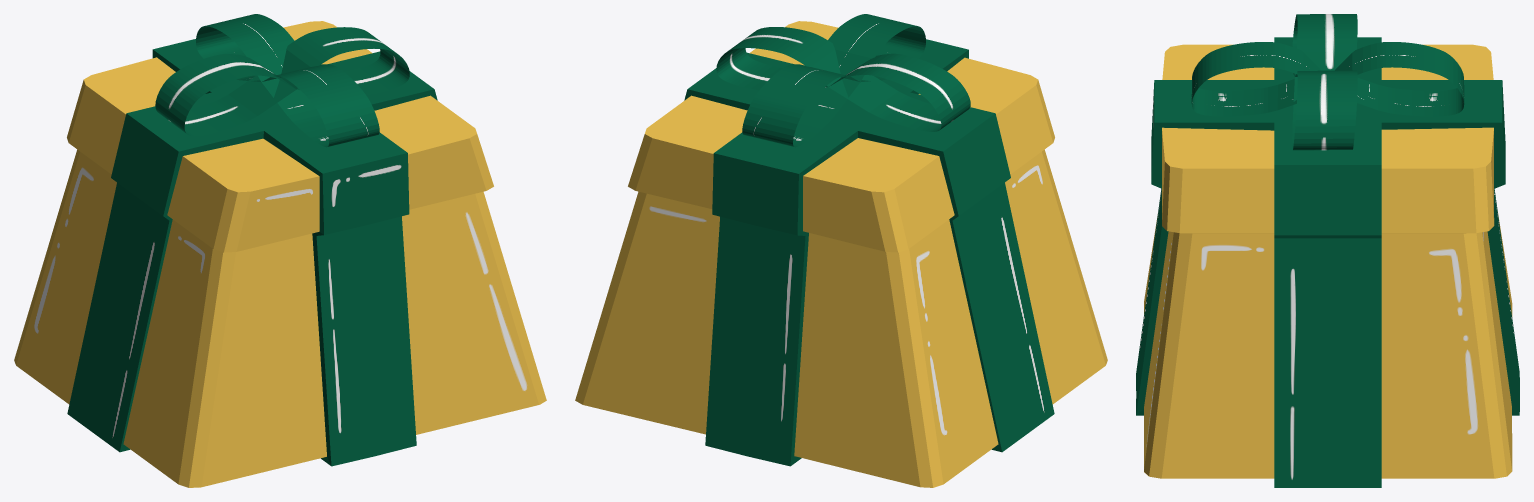
The model's file is Gift_3.glb.
The picture shows the model from 3 angles, left to right: view 1: azimuth 30°, elevation 25°; view 2: azimuth 150°, elevation 25°; view 3: azimuth 270°, elevation 25°; orthographic projection. The views are drawn at different scales.
Parts seen in each view (by area): view 1: XmasGifts_02; view 2: XmasGifts_02; view 3: XmasGifts_02.
Boxes of the visible parts, bbox=[...] form: XmasGifts_02: bbox=[14, 14, 546, 487]; XmasGifts_02: bbox=[575, 14, 1107, 487]; XmasGifts_02: bbox=[1136, 14, 1519, 487].
Size of the model in its own units: 2.61 by 2.23 by 2.27.
Materials: 2 (2 with a texture image).
